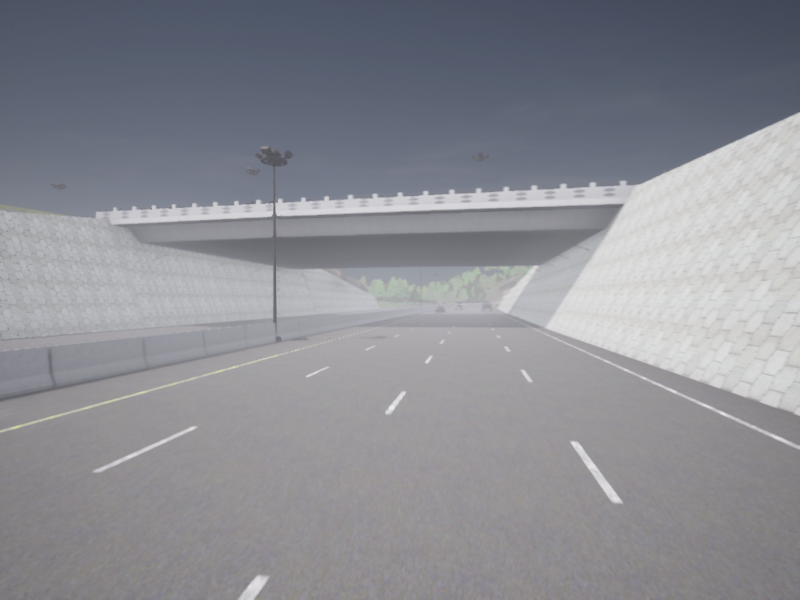vehicle: (482, 303, 491, 310), (436, 306, 445, 312), (455, 304, 462, 310)
